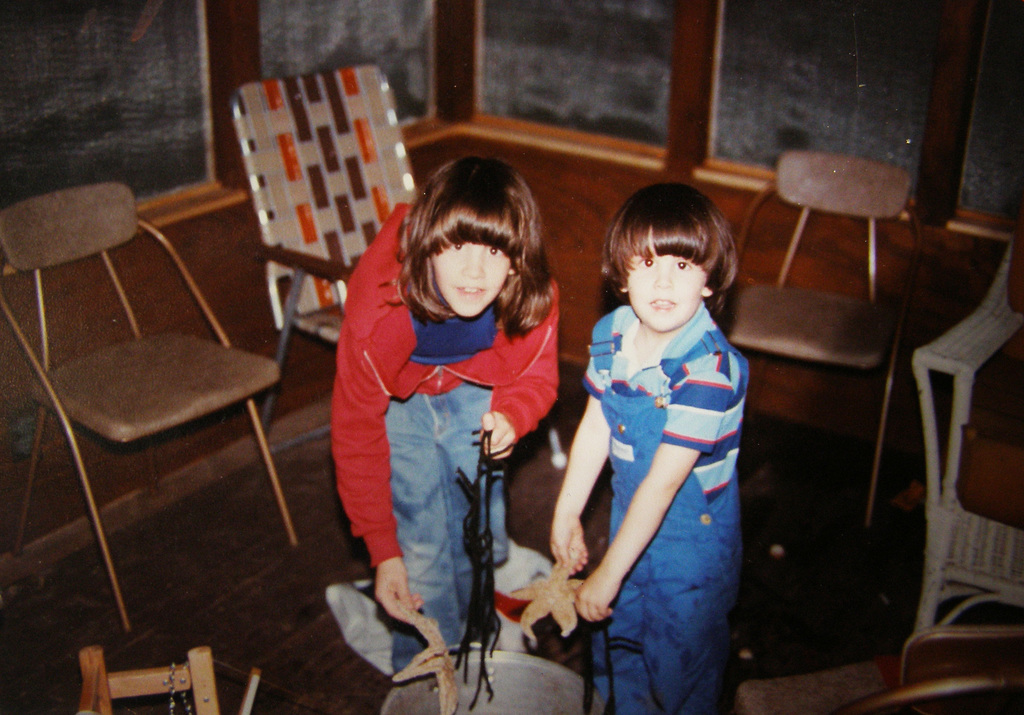Human_hand: (372, 557, 425, 628), (570, 566, 617, 621), (547, 515, 590, 575), (480, 411, 519, 465)
